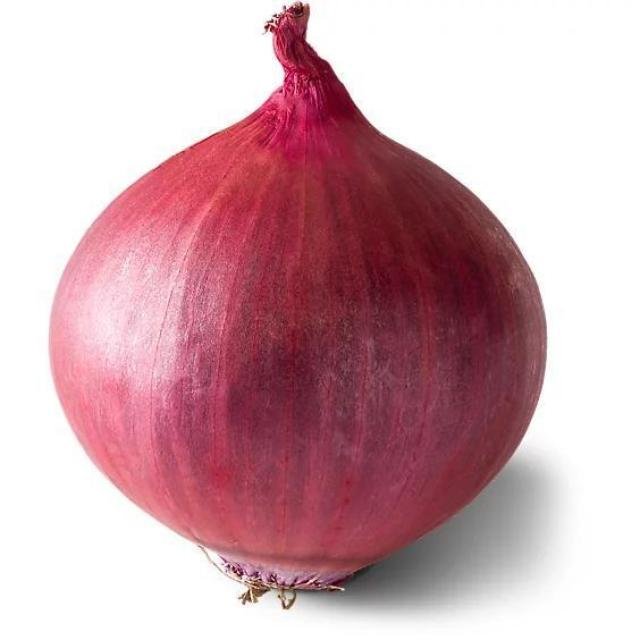Onion: (45, 0, 549, 609)
